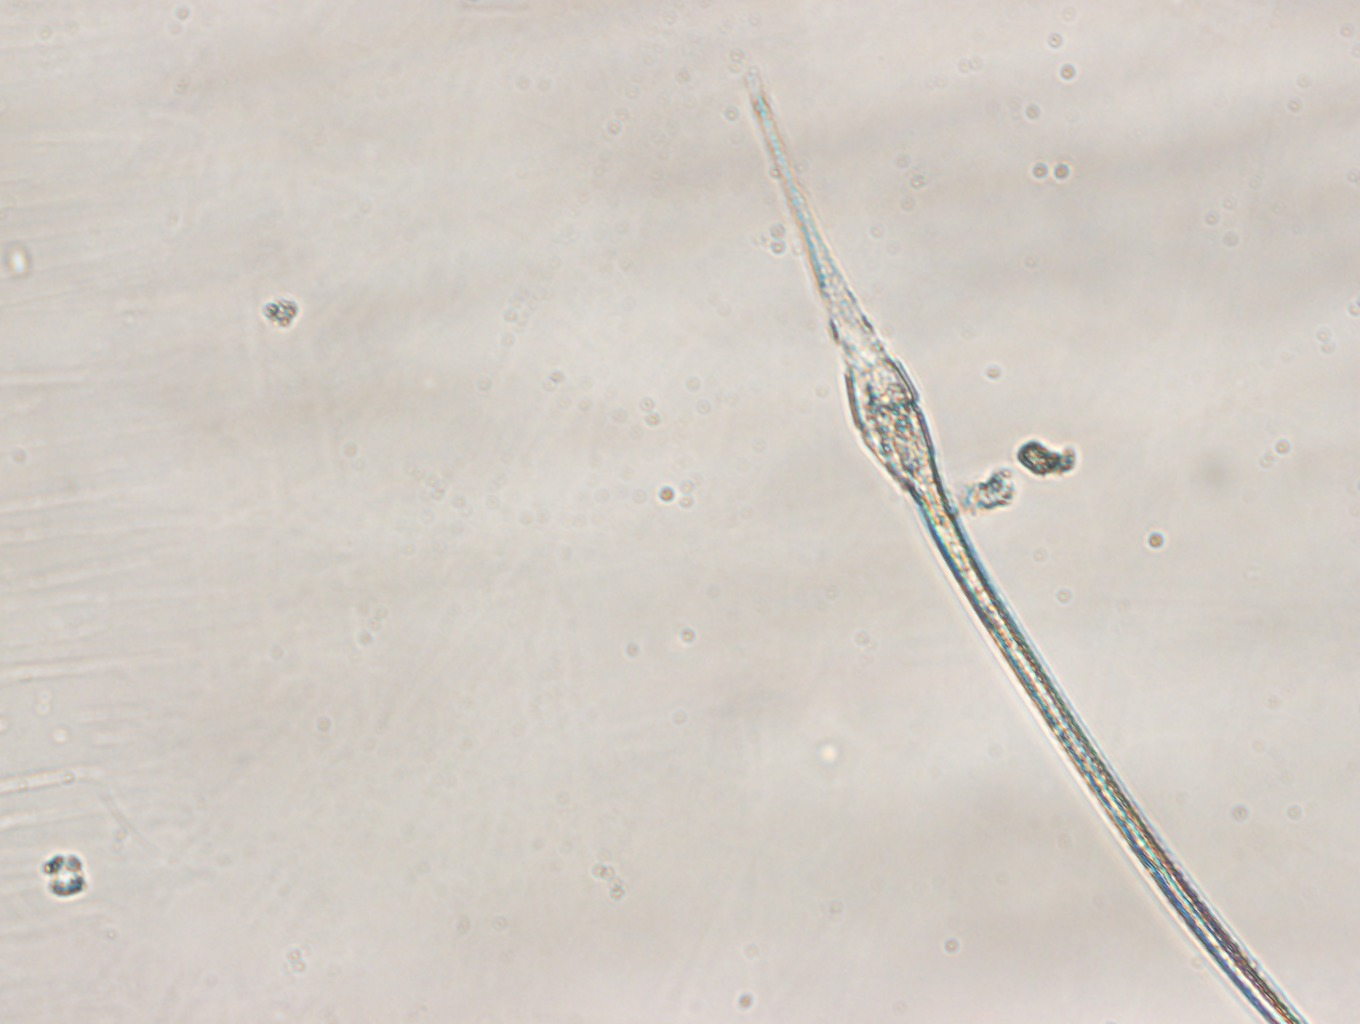ceratium fusus: (743, 67, 1307, 1024)
